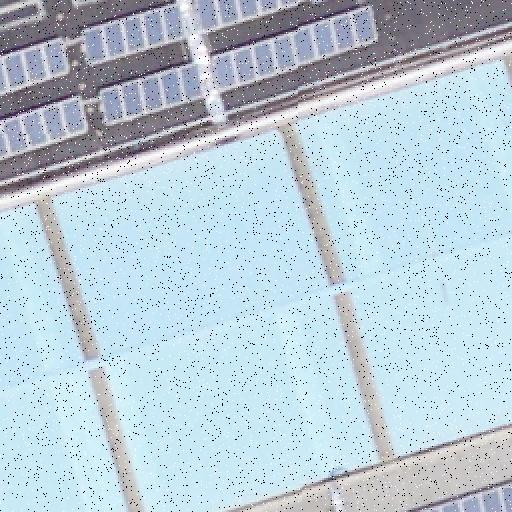solar-panel: (209, 3, 383, 93), (98, 61, 210, 123), (0, 92, 96, 164), (82, 0, 190, 64), (0, 33, 76, 95), (194, 0, 306, 32), (412, 480, 512, 512)
